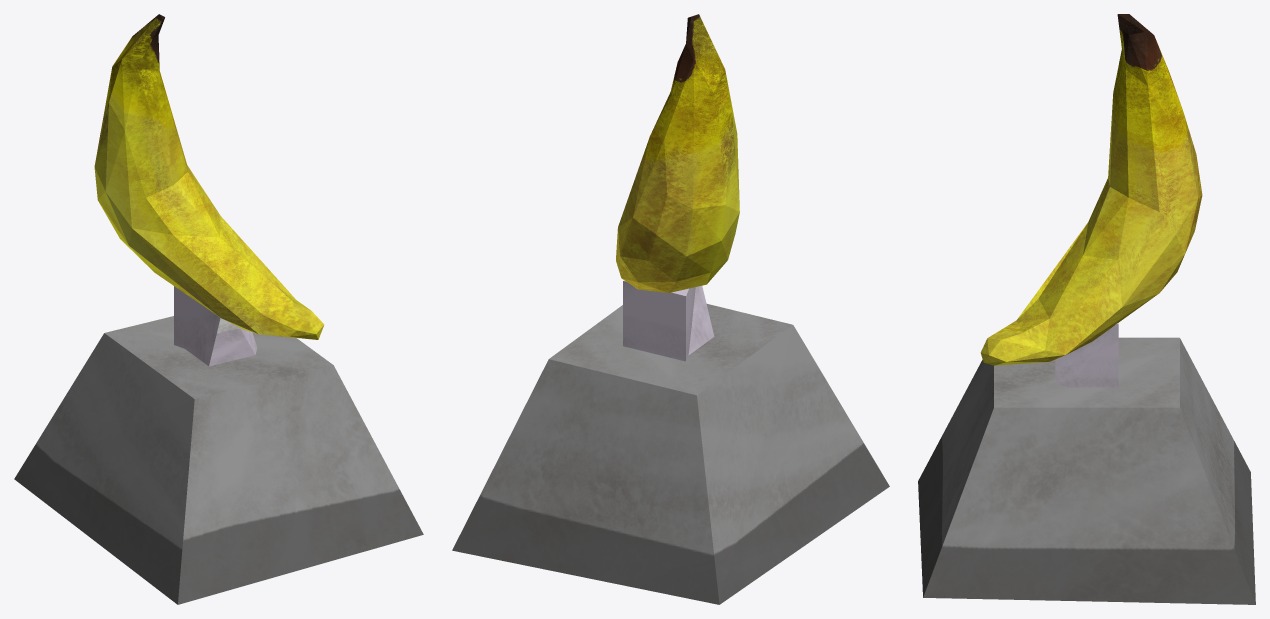
File: bananaBulding.obj
3 views of the same model, side by side, from view 1: azimuth 30°, elevation 25°; view 2: azimuth 150°, elevation 25°; view 3: azimuth 270°, elevation 25° (orthographic). The views are drawn at different scales.
Parts seen in each view (by area): view 1: 立方体; view 2: 立方体; view 3: 立方体.
Boxes of the visible parts, x1=… form: 立方体: x1=14, y1=14, x2=423, y2=604; 立方体: x1=452, y1=14, x2=889, y2=604; 立方体: x1=918, y1=14, x2=1255, y2=604.
Bounding box in the file's own units: 7.76 × 14.68 × 8.82.
1 material, 1 textured.
